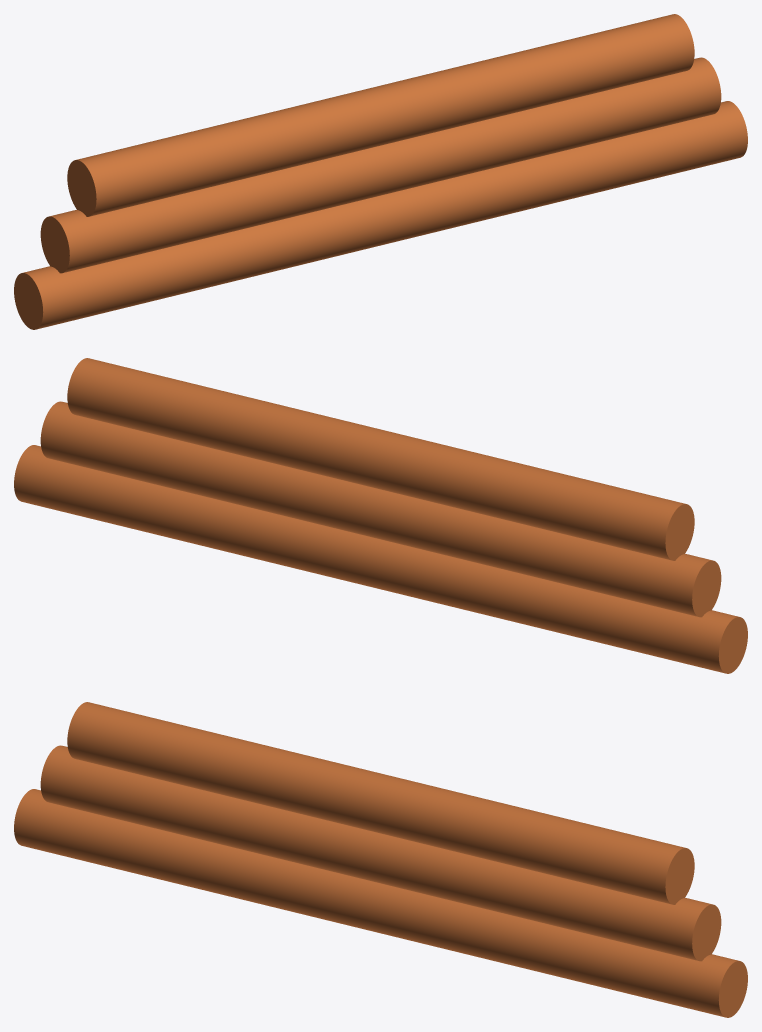
Rendered from copper-rod.glb.
3 views of the same model, one above another, from view 1: azimuth 30°, elevation 25°; view 2: azimuth 150°, elevation 25°; view 3: azimuth 330°, elevation 25° (orthographic).
Visible parts, largest first — view 1: copper-rod; view 2: copper-rod; view 3: copper-rod.
Part boxes in pixels (left/top/right/bottom): copper-rod: left=14, top=14, right=747, bottom=329; copper-rod: left=14, top=358, right=747, bottom=673; copper-rod: left=14, top=702, right=747, bottom=1017.
Size of the model in its own units: 5.02 by 1.04 by 0.36.
